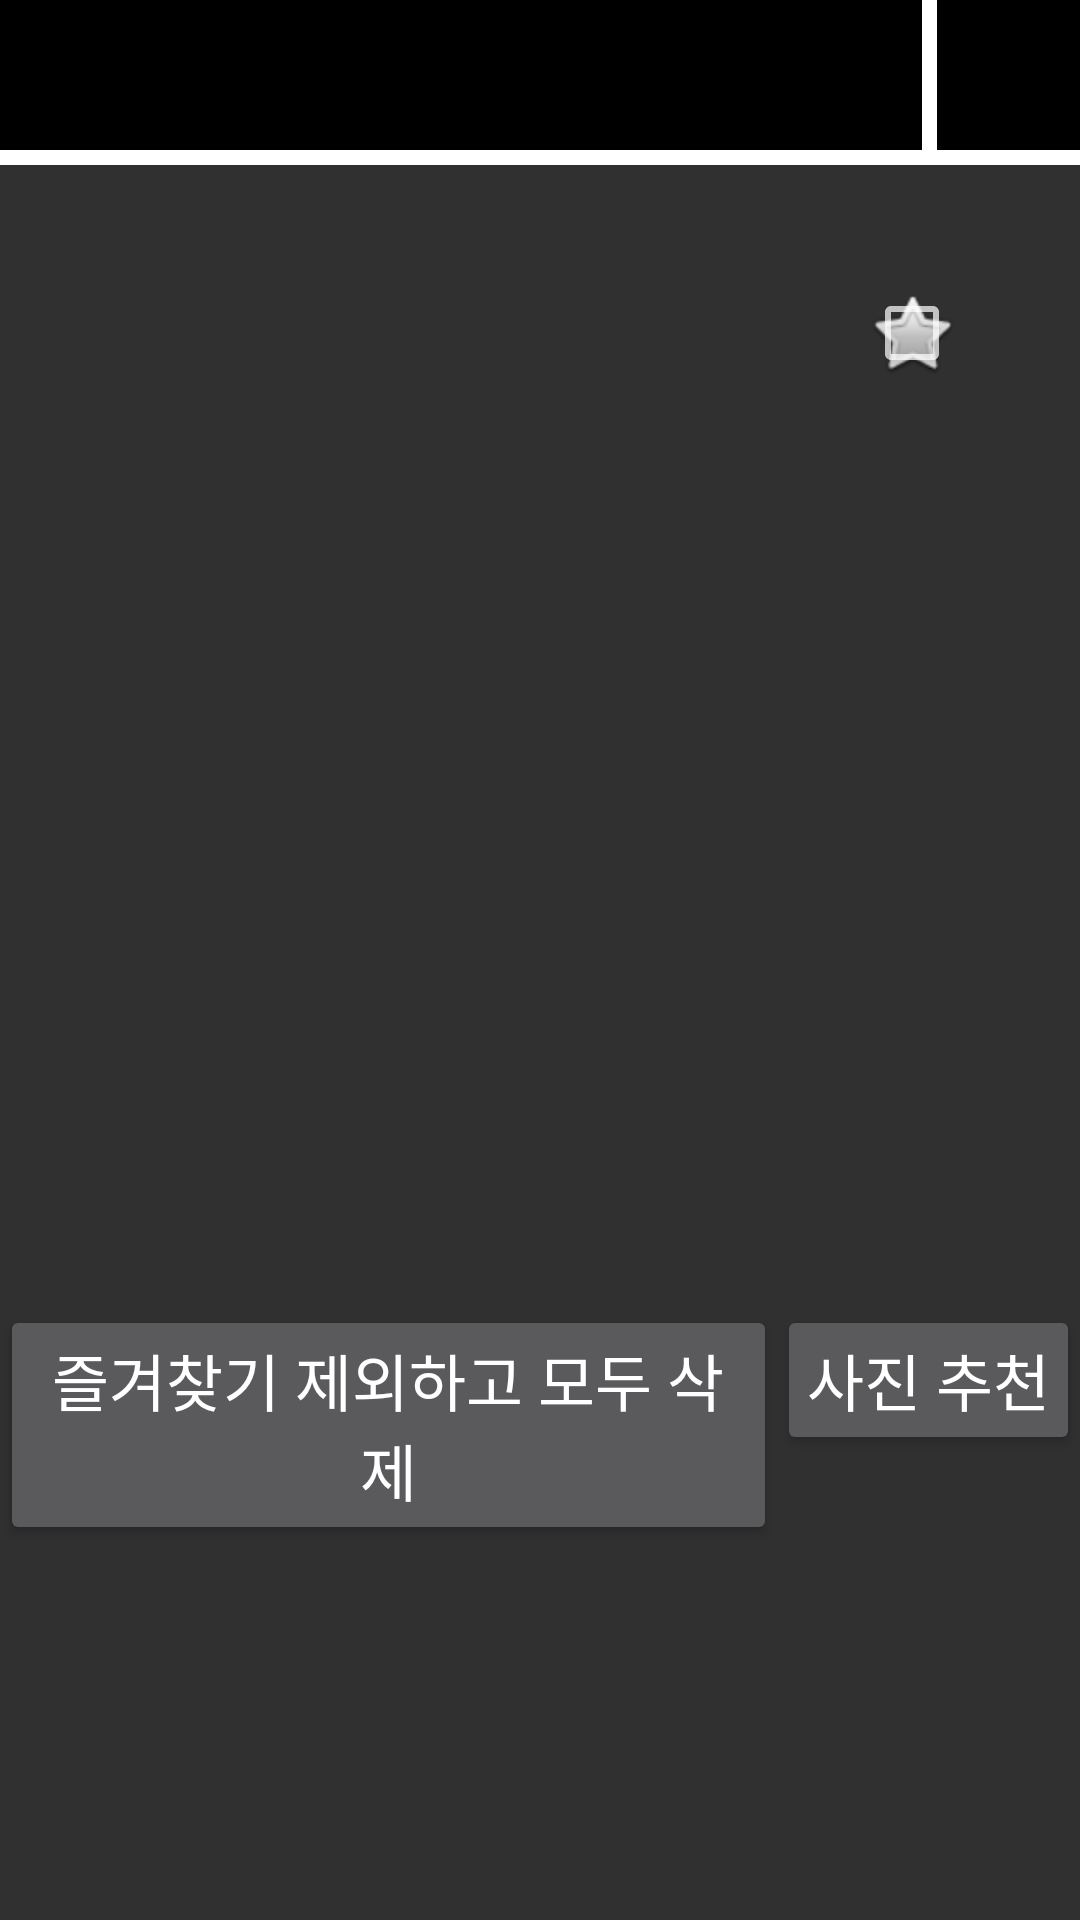

Locate icon controls on the screen. Image size 1080w x 1920h, boxes as (x1, y1, x2, y2).
bookmarkbtn change: (875, 296, 951, 369)
